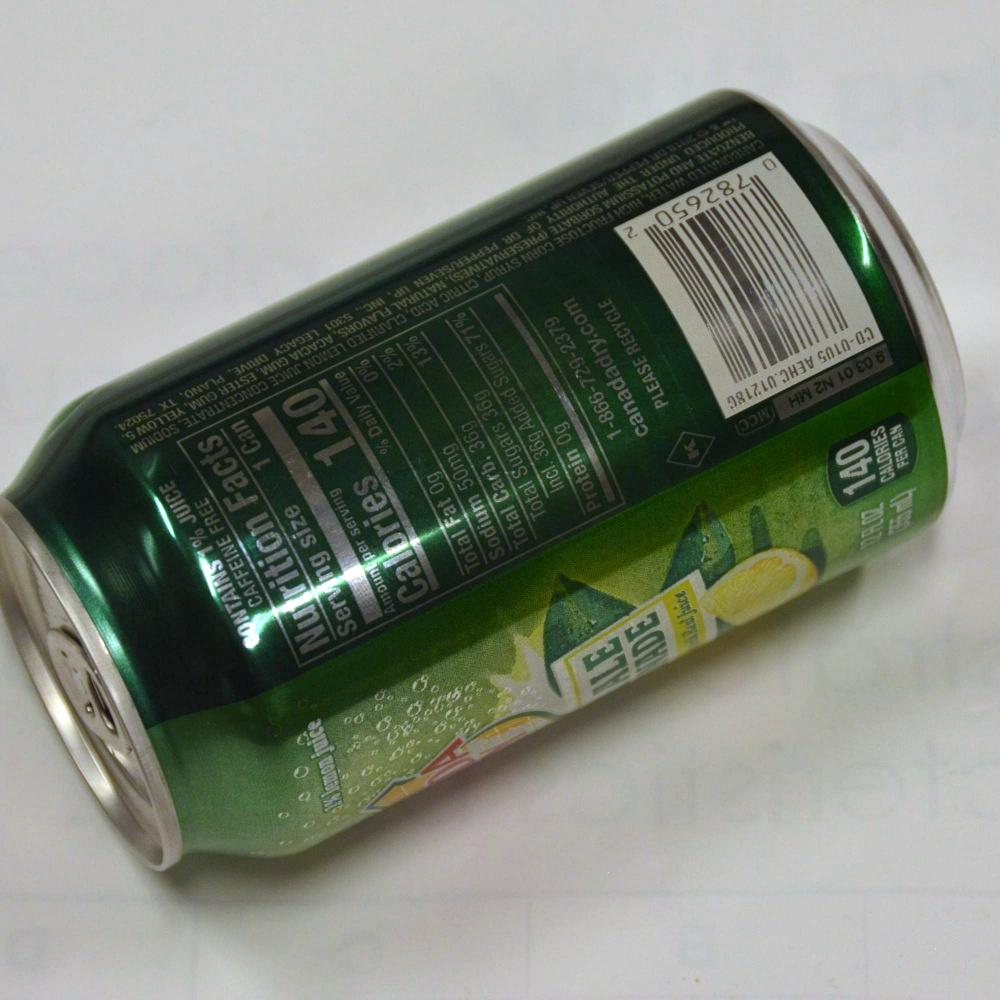Metal: (51, 93, 911, 872)
